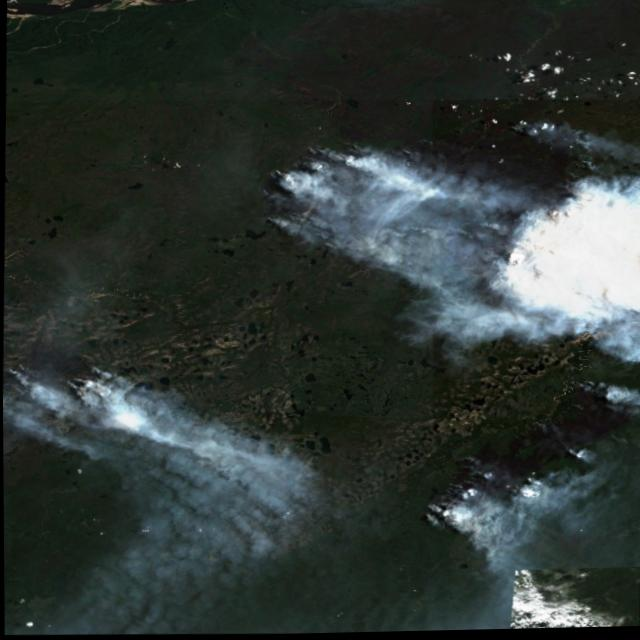fire: (478, 154, 640, 325), (250, 136, 406, 243), (2, 340, 141, 444), (417, 461, 579, 543)
